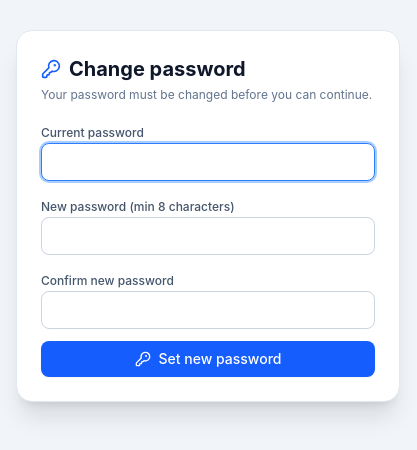
ChangePassword page › surfaces a wrong-current-password error and stays put
Expected: the text "Your password must be changed before you can continue." is shown, [41,87,375,103]
Type "wrongpass" into the password field below "Current password".
click(208, 162); type("wrongpass")  # box [41,143,375,181]
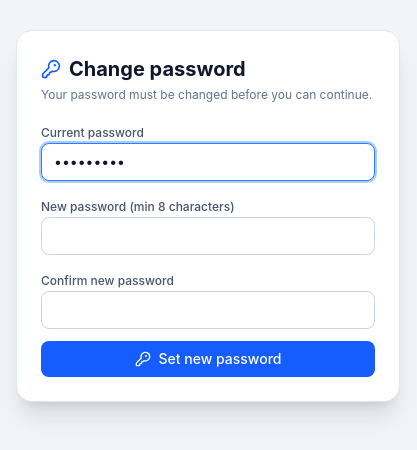
Type "newpassword1" into the password field below "New password (min 8 characters)".
click(208, 236); type("newpassword1")  # box [41,217,375,255]
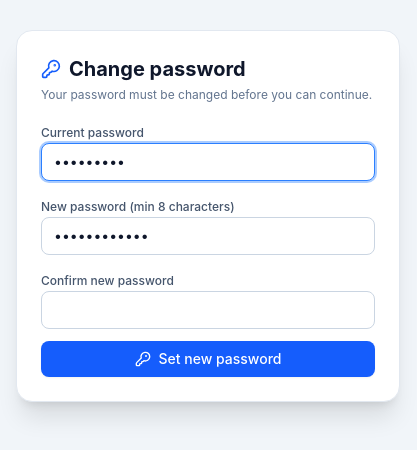
Type "newpassword1" into the password field below "Confirm new password".
click(208, 310); type("newpassword1")  # box [41,291,375,329]
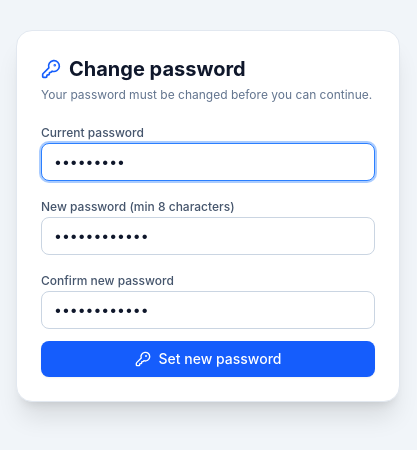
Click the button "Set new password".
click(208, 359)  # box [41,341,375,377]
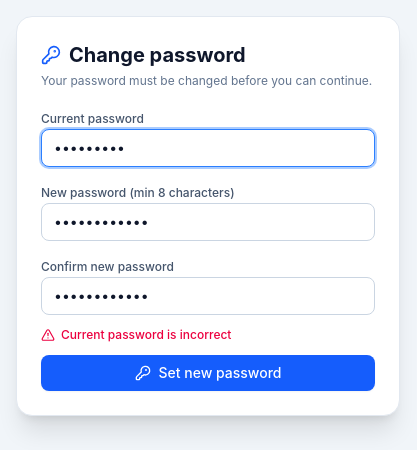
Result: the text "Current password is incorrect" is shown at [41,327,232,342]
